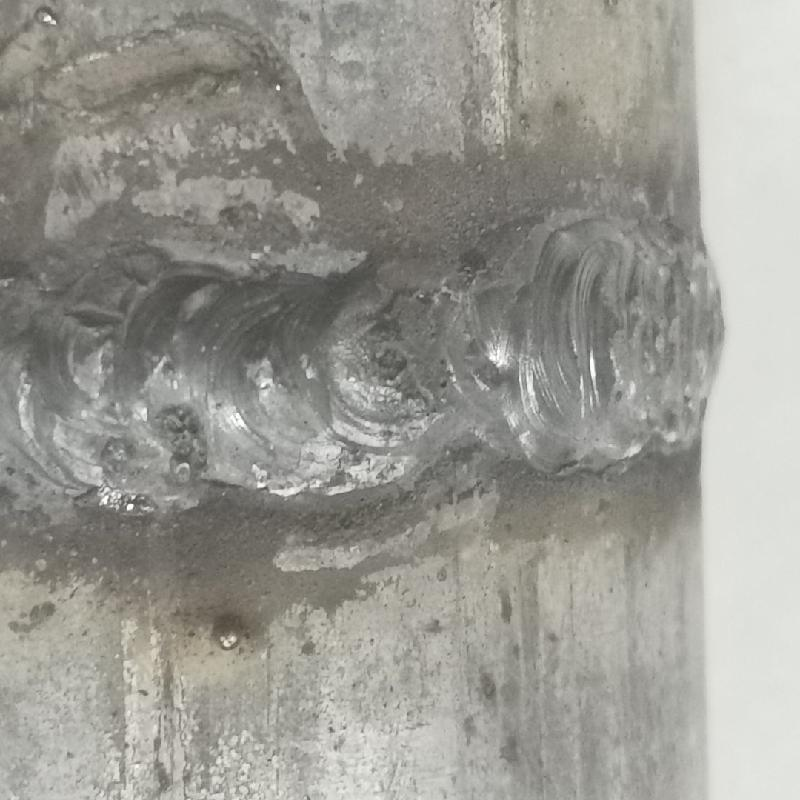good: (3, 190, 728, 507)
